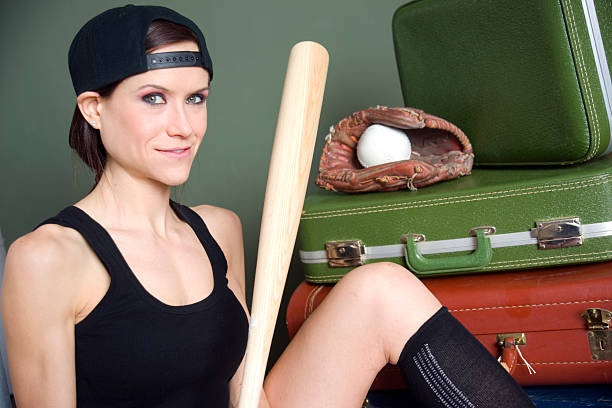bita: (240, 34, 330, 408)
